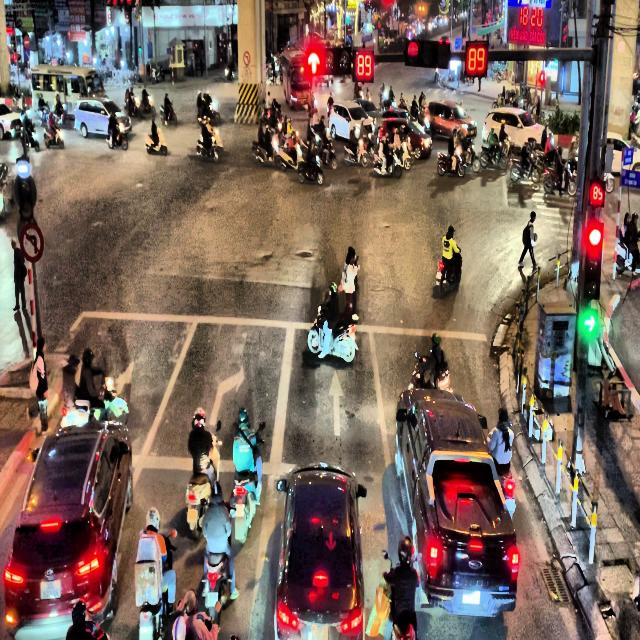lisence_plate: (39, 577, 62, 601), (310, 622, 329, 638), (461, 591, 482, 605)
